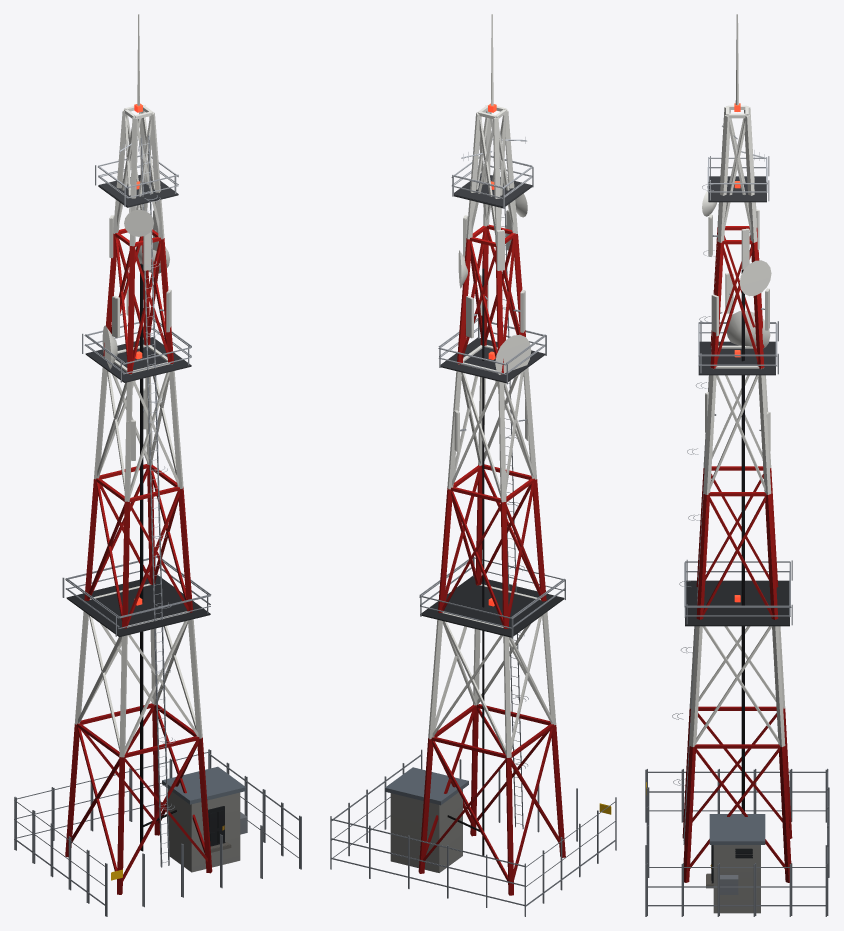
File: Radio_Tower.fbx
The picture shows the model from 3 angles, left to right: view 1: azimuth 30°, elevation 25°; view 2: azimuth 150°, elevation 25°; view 3: azimuth 270°, elevation 25°; orthographic projection.
Visible parts, largest first — view 1: Radio_Tower_LOD0; view 2: Radio_Tower_LOD0; view 3: Radio_Tower_LOD0.
Boxes of the visible parts, x1,y1,x2,y2 form: Radio_Tower_LOD0: [14, 14, 301, 916]; Radio_Tower_LOD0: [330, 14, 616, 916]; Radio_Tower_LOD0: [645, 14, 829, 916].
Size of what is drawn, in the model's own units: 10.51 by 44 by 8.58.
1 material, 1 textured.
